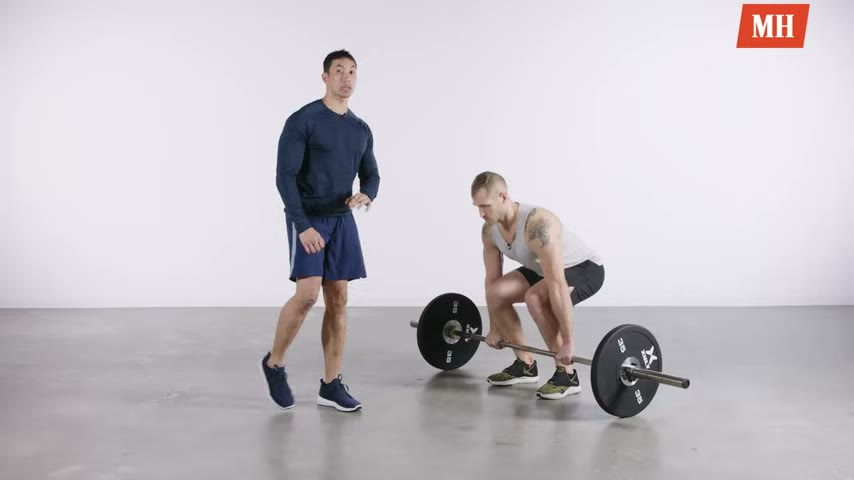barbell_plate_side: (409, 290, 481, 417), (615, 320, 694, 434)
